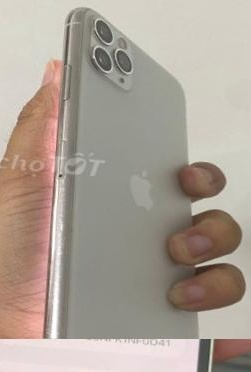scratch: (41, 98, 77, 339)
